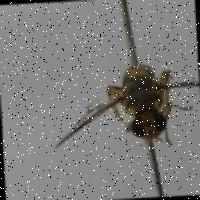Oriental-fruit-fly: (39, 51, 200, 163)
